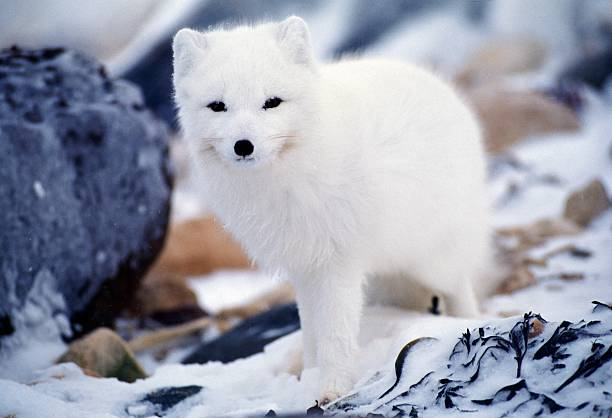arcticfox: (172, 42, 335, 200)
